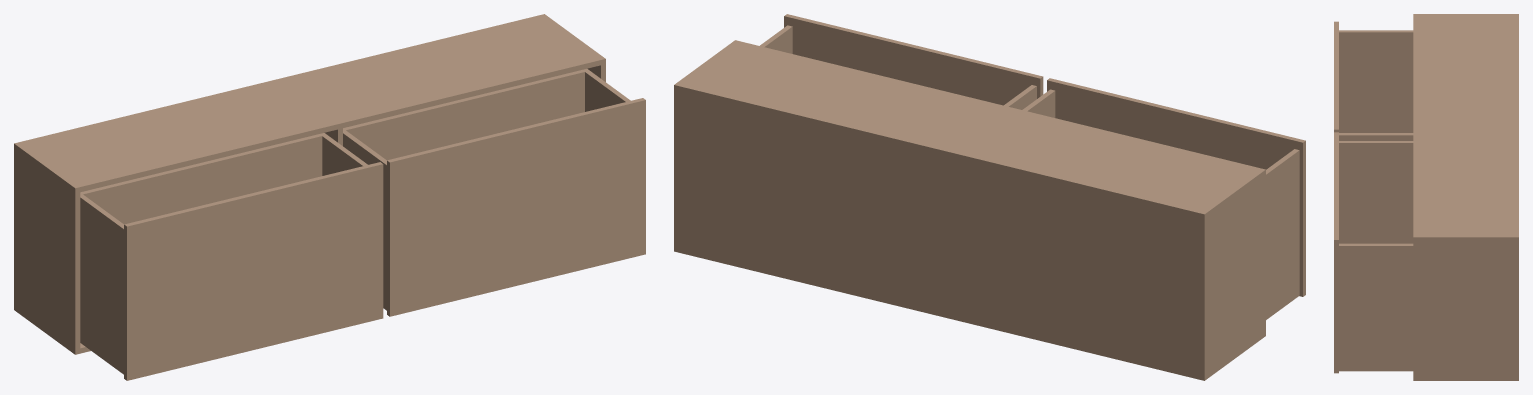
The model's file is meuble_690f675e99509.glb.
3 views of the same model, side by side, from view 1: azimuth 30°, elevation 25°; view 2: azimuth 150°, elevation 25°; view 3: azimuth 270°, elevation 25° (orthographic). The views are drawn at different scales.
Parts seen in each view (by area): view 1: world; view 2: world; view 3: world.
Boxes of the visible parts, box(x1,y1,x2,y2) form: world: box(14, 14, 645, 380); world: box(674, 14, 1305, 380); world: box(1334, 14, 1518, 380).
Size of the model in its own units: 2 by 0.6 by 0.7.
